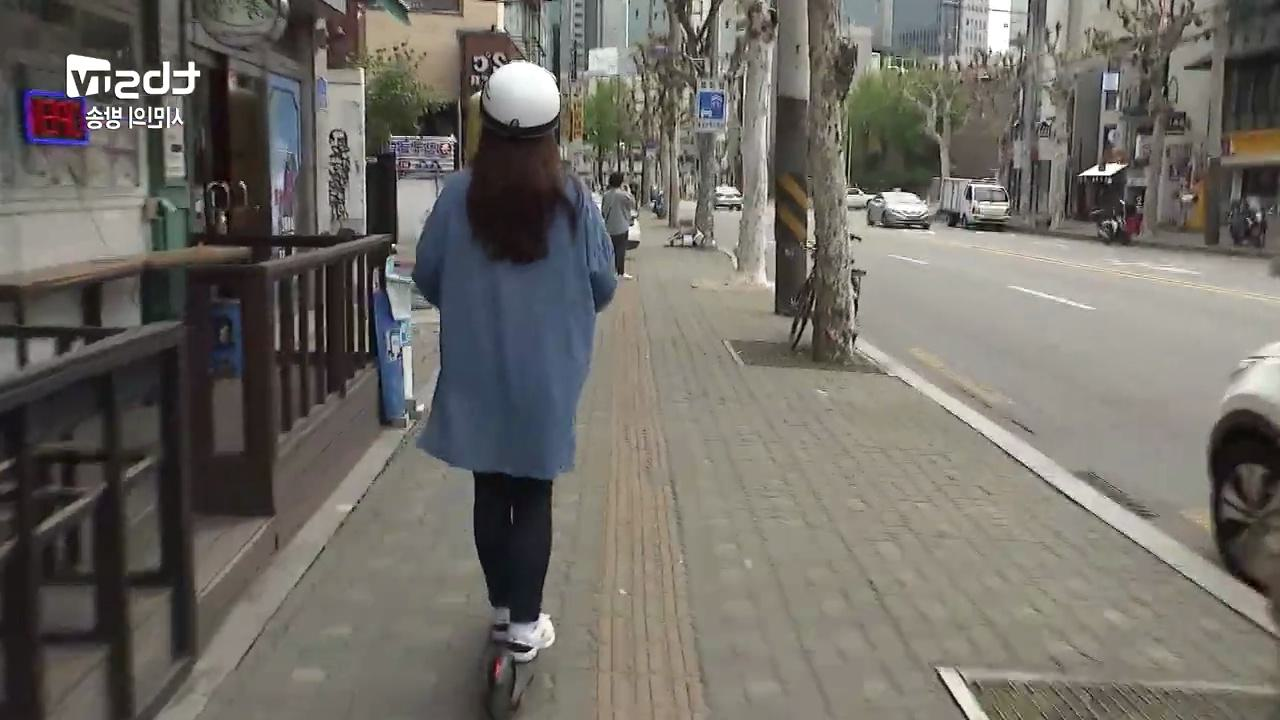helmet: (405, 59, 618, 720)
